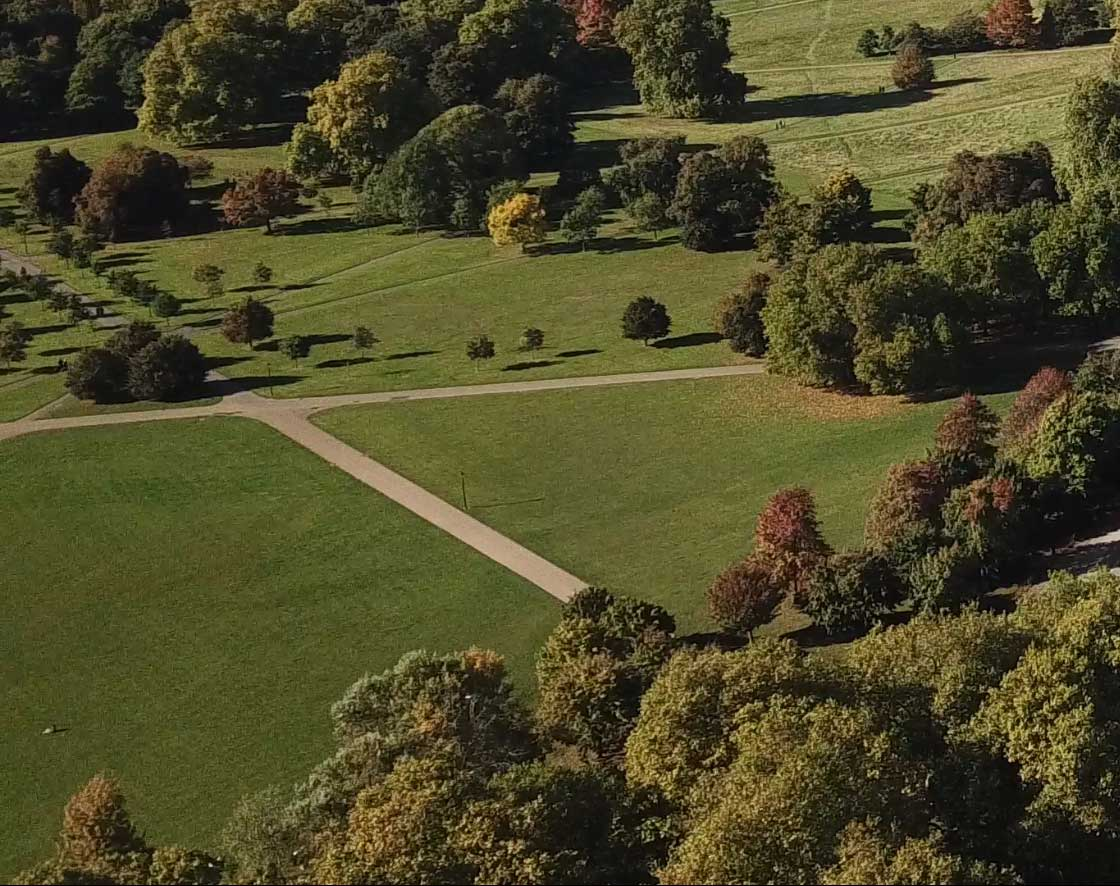tree: (606, 3, 766, 116), (746, 478, 840, 610), (209, 161, 319, 246), (474, 180, 561, 259), (609, 292, 685, 351), (214, 294, 288, 353), (883, 39, 950, 96)
